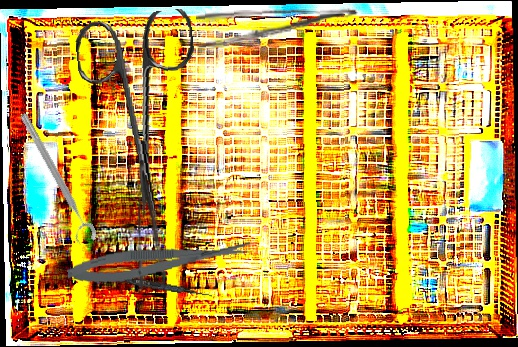Dressing Forceps: (195, 6, 359, 50), (137, 158, 166, 289)
Fixation Ring: (9, 110, 100, 249)
Iris Scissors: (73, 7, 211, 224)
Micro Scissor: (65, 234, 254, 290)
Spatula Surgical: (72, 268, 213, 298)
